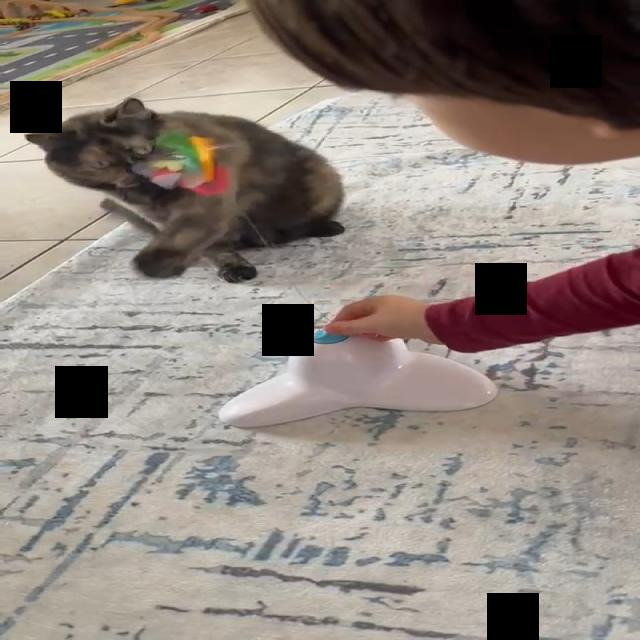authorized: (24, 97, 345, 283)
